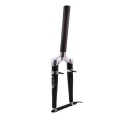fork: (47, 3, 90, 120)
